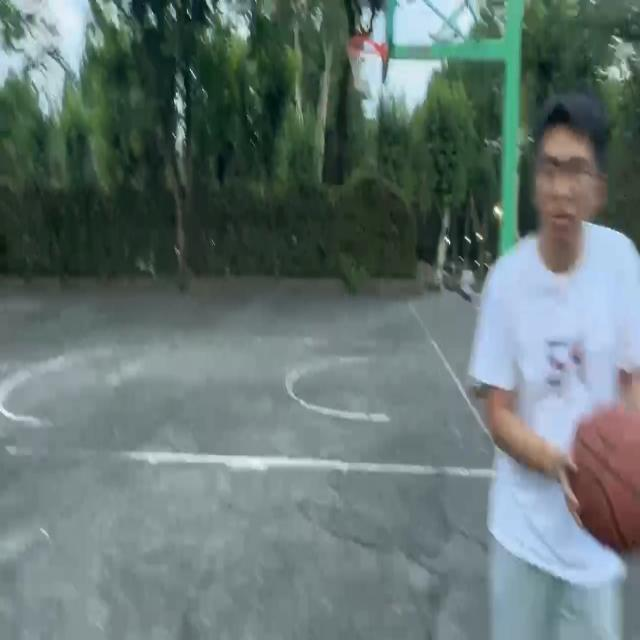basketball: (346, 37, 388, 89)
rim: (566, 406, 640, 555)
